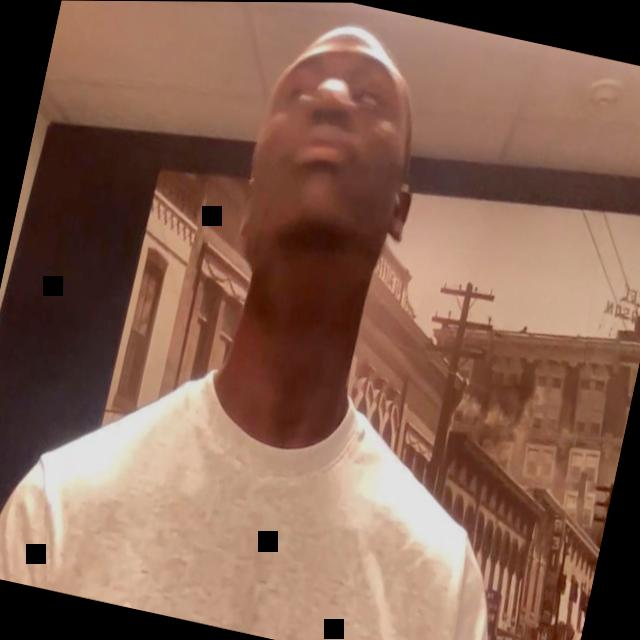NO-Mask: (230, 9, 444, 296)
